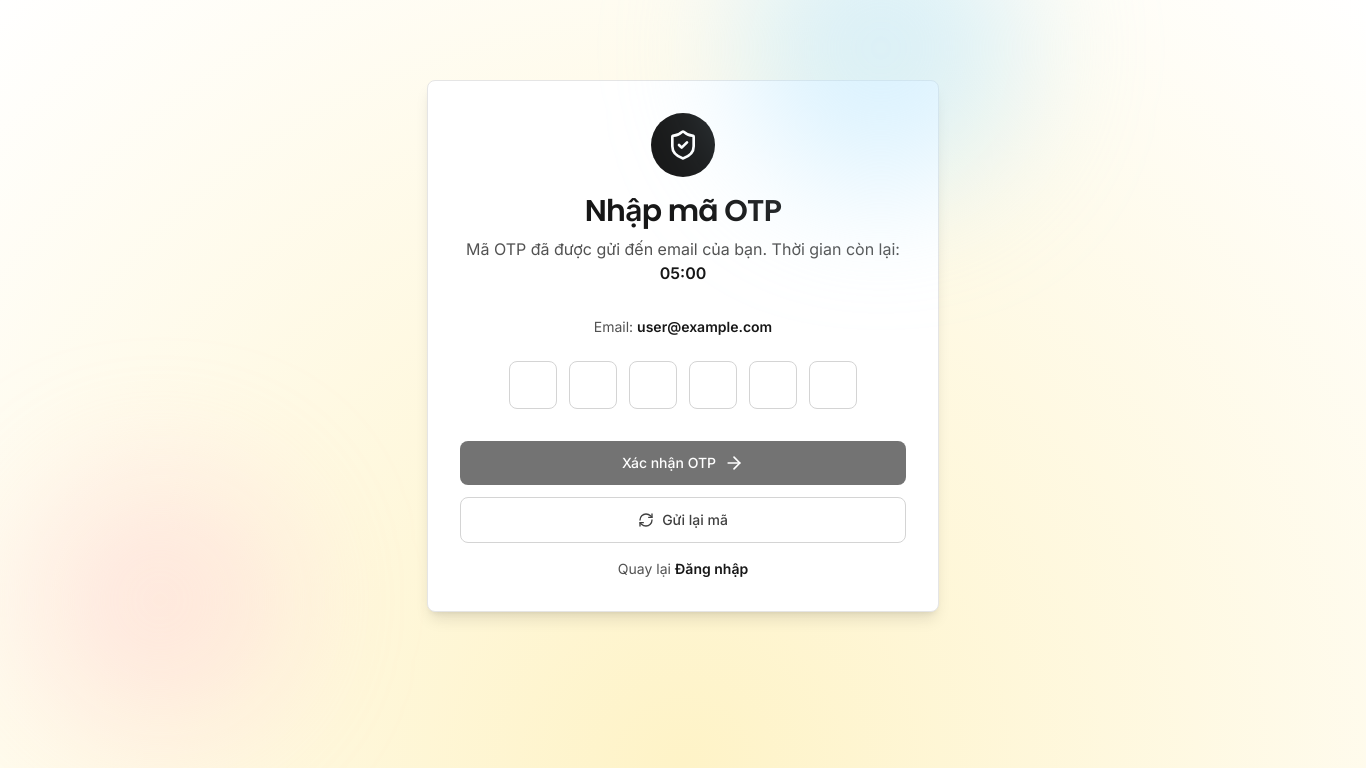
OtpVerifyPage › shows error when verify OTP API fails
Step 1. Type "1" into the 1st field → coordinates (533, 385), box [509,361,557,409]
Step 2. Type "1" into the 2nd field → coordinates (593, 385), box [569,361,617,409]
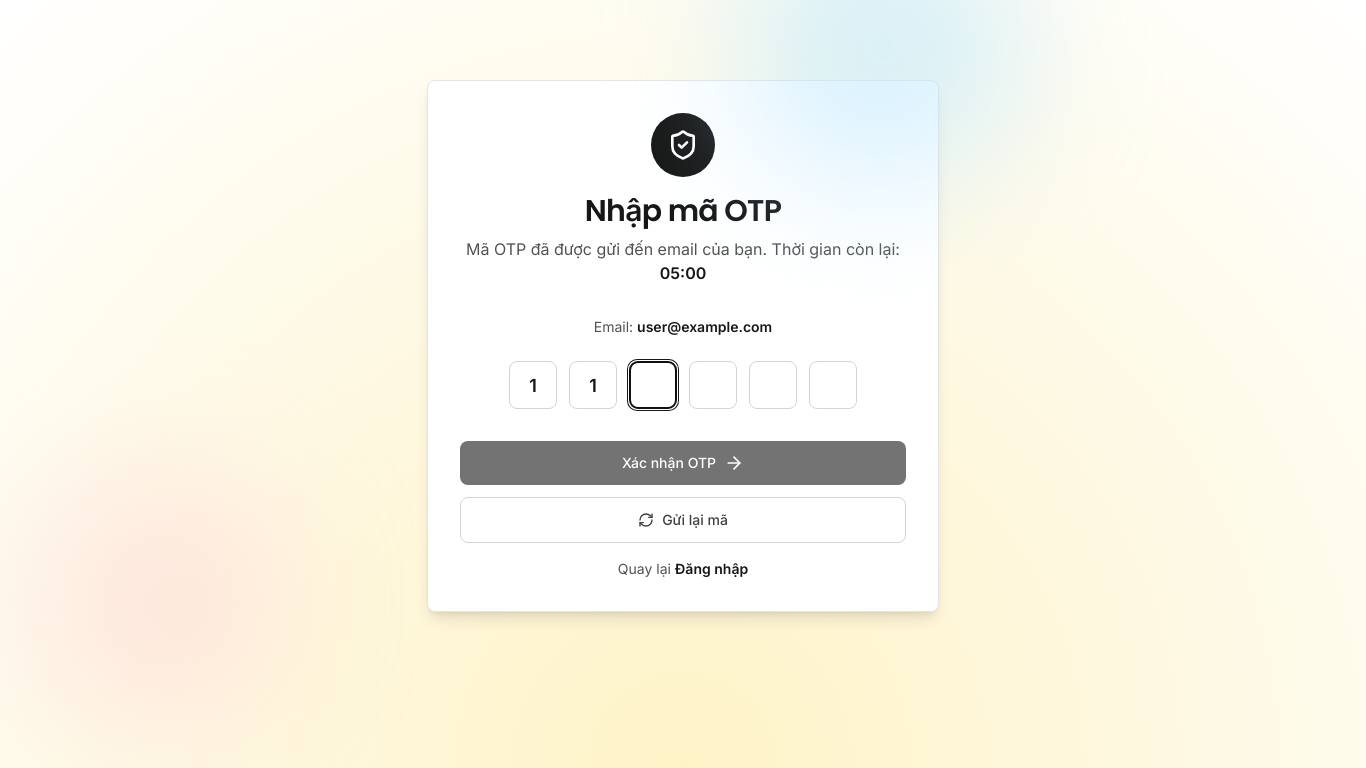
Step 3. Type "1" into the 3rd field → coordinates (653, 385), box [629,361,677,409]
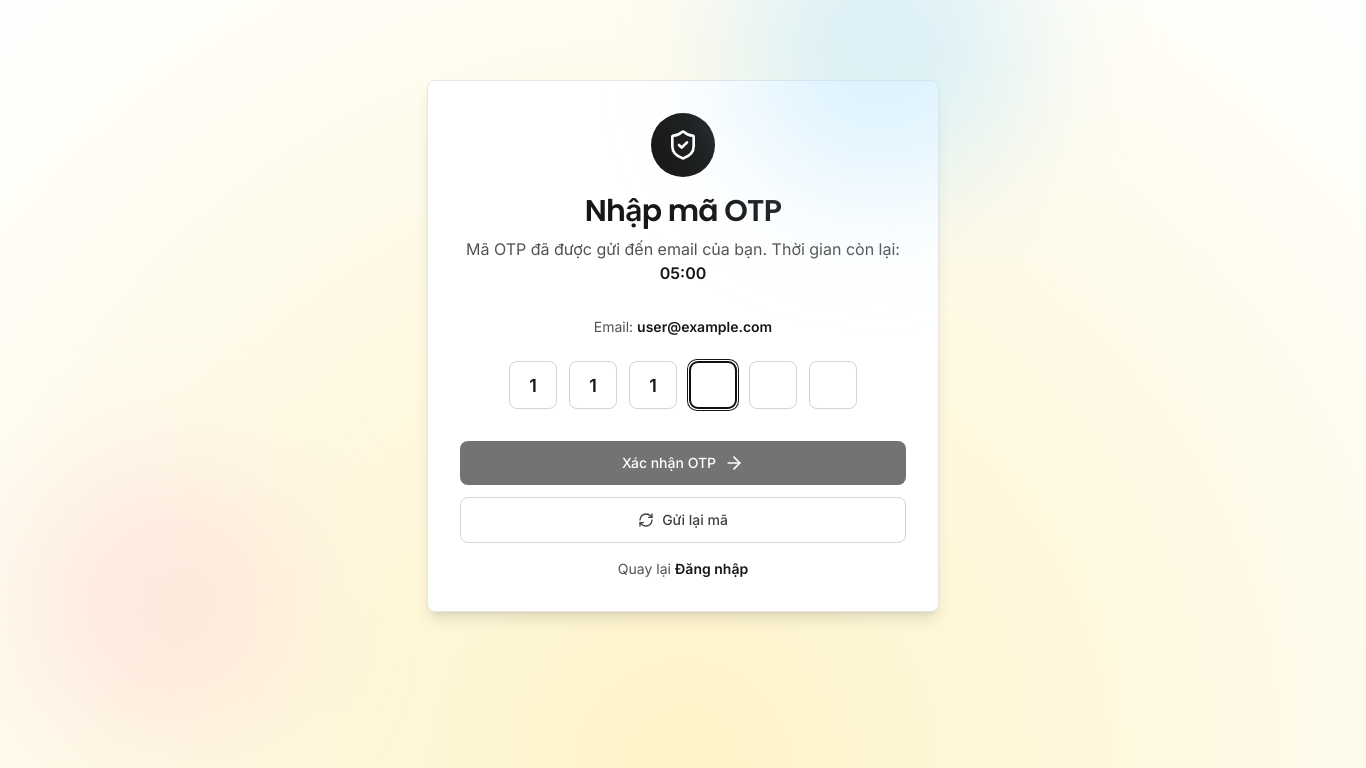
Step 4. Type "1" into the 4th field → coordinates (713, 385), box [689,361,737,409]
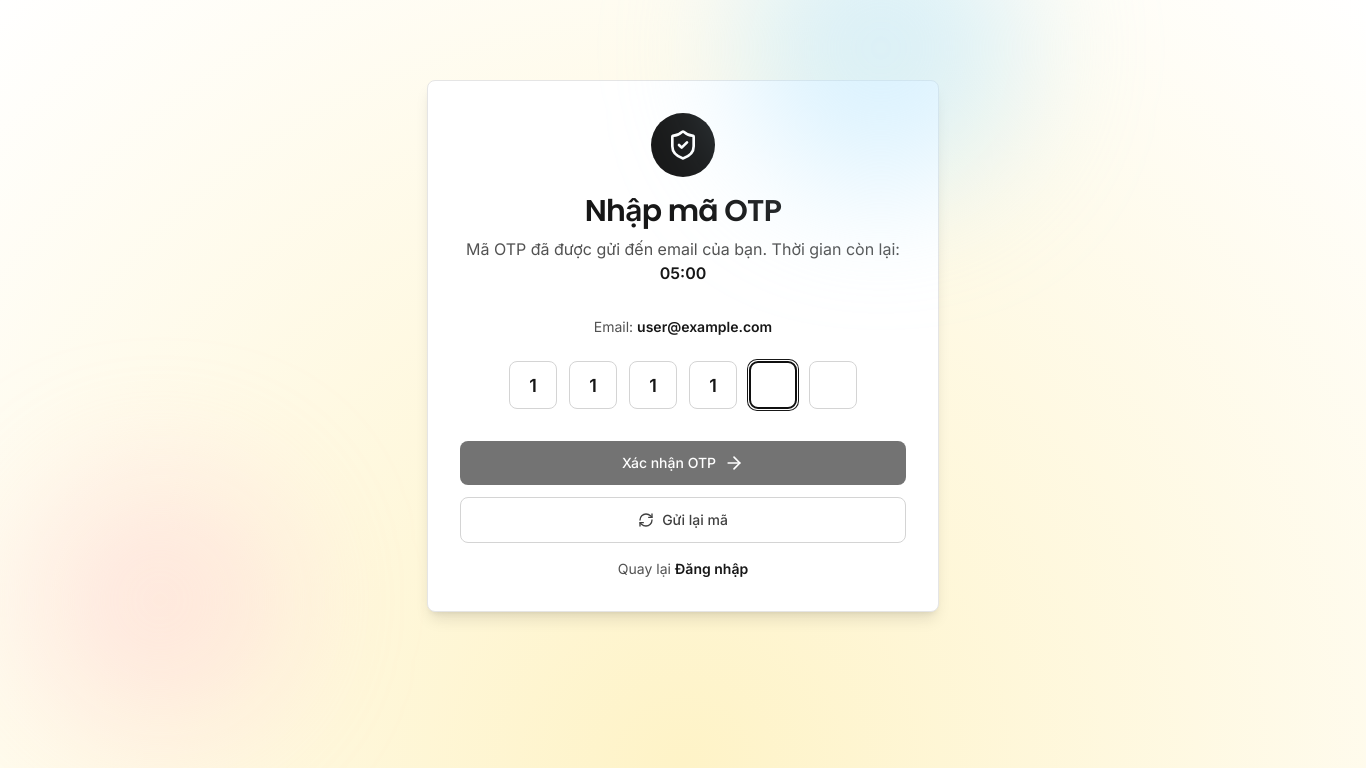
Step 5. Type "1" into the 5th field → coordinates (773, 385), box [749,361,797,409]
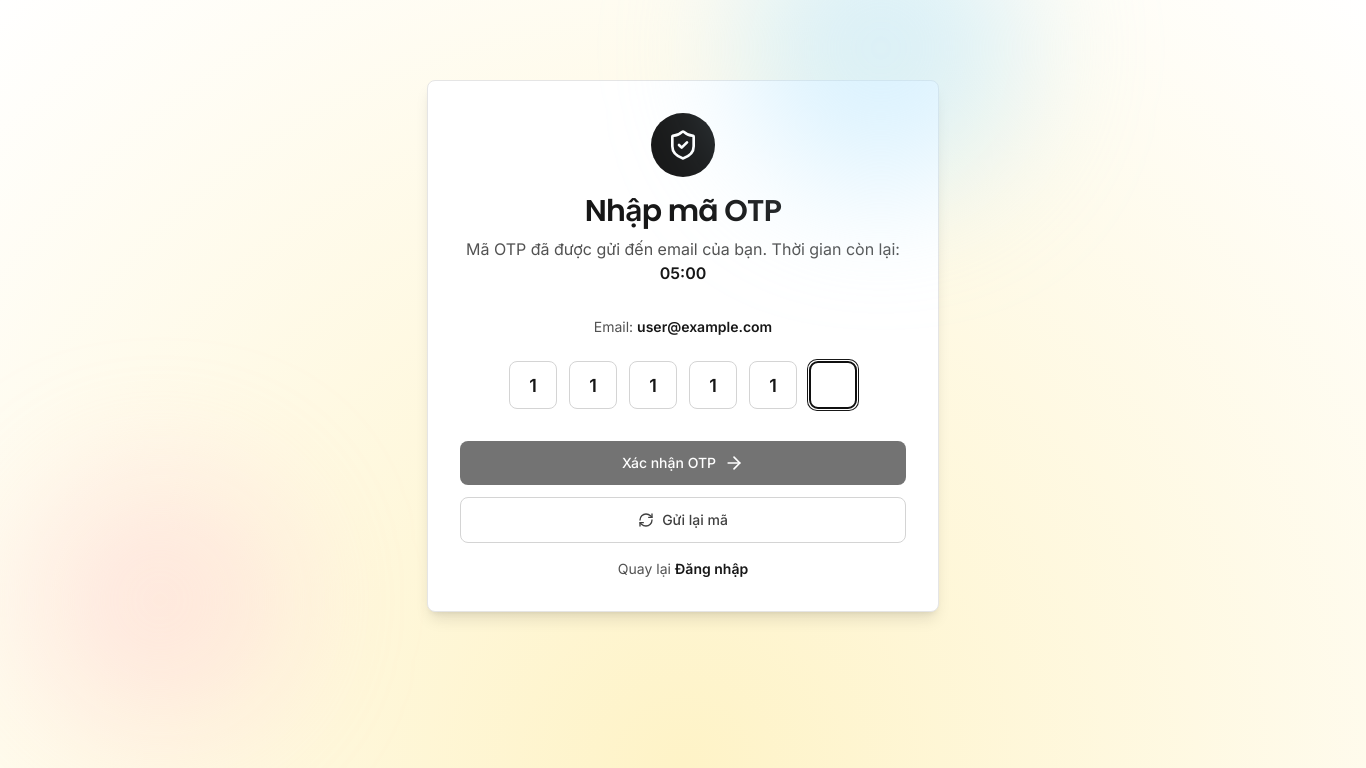
Step 6. Type "1" into the 6th field → coordinates (833, 385), box [809,361,857,409]
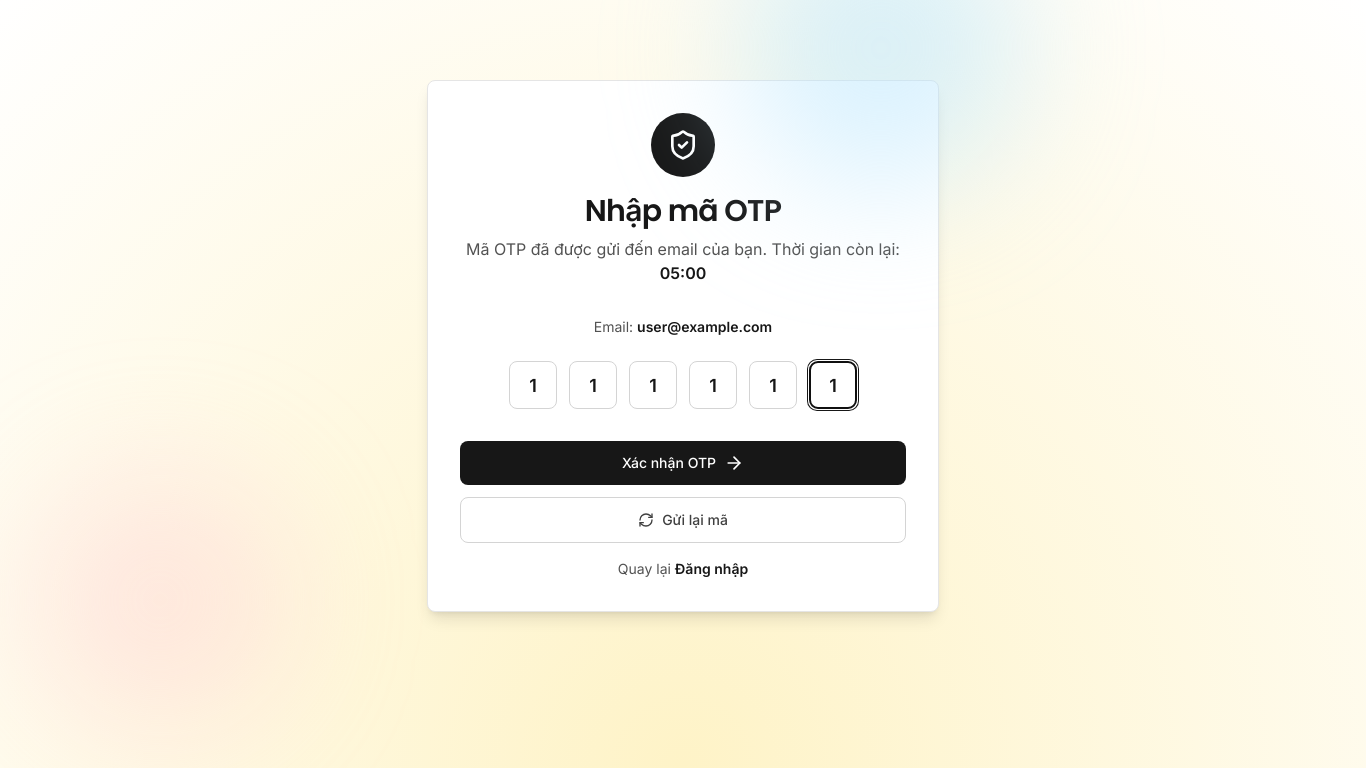
Step 7. Click the button "Xác nhận OTP" → coordinates (683, 463), box [460,441,906,485]
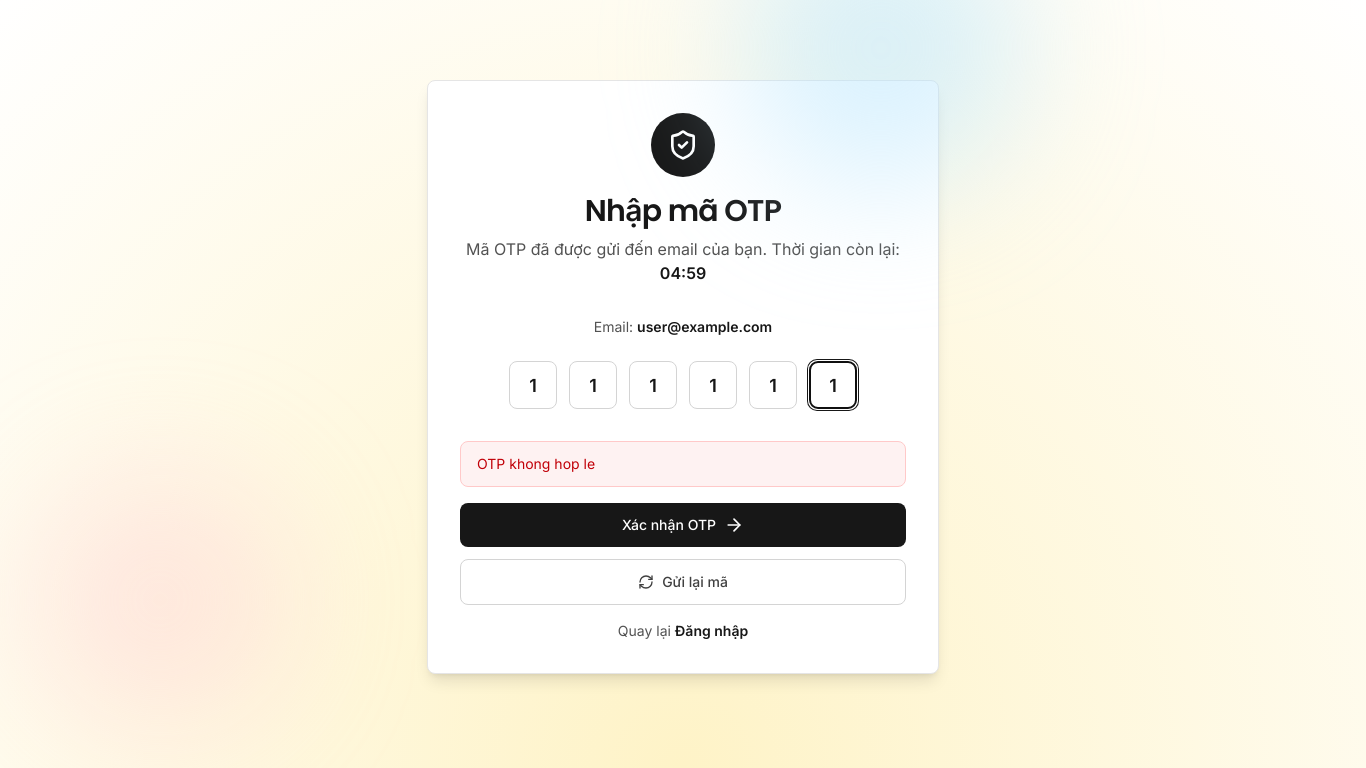
Result: the text "OTP khong hop le" is shown at [460,441,906,487]
